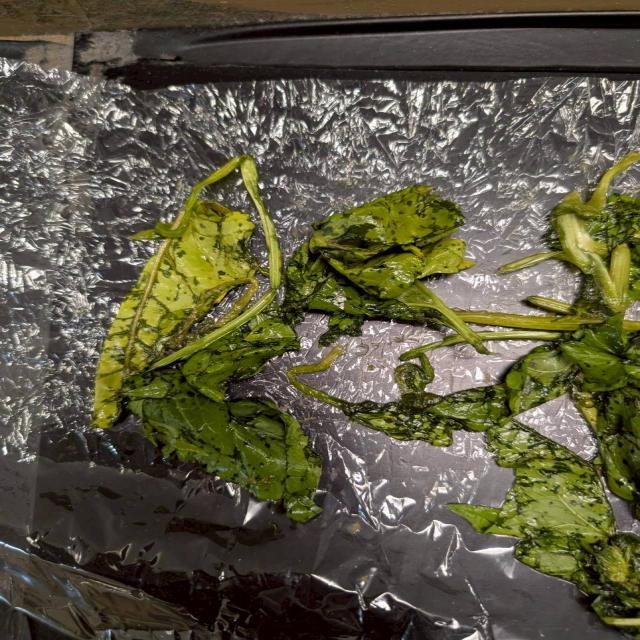rotten spinach: (75, 131, 635, 573), (45, 148, 392, 535), (327, 356, 640, 624), (496, 145, 640, 525), (277, 164, 501, 348)
